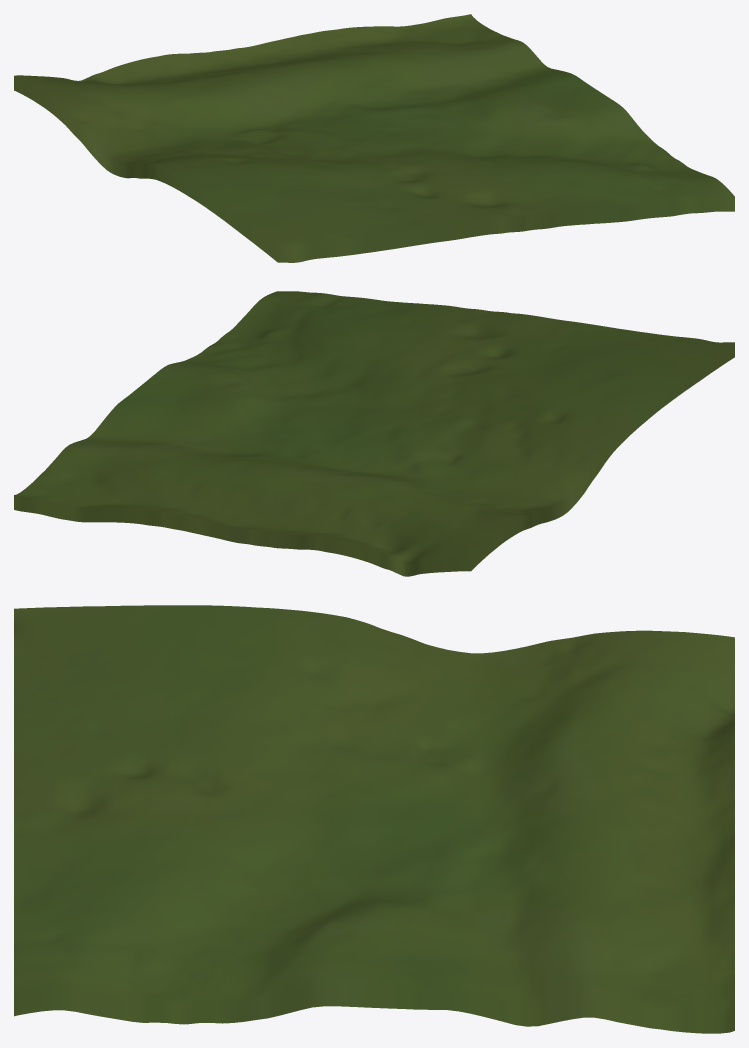
The model's file is terrain_8_-22.glb.
3 views of the same model, one above another, from view 1: azimuth 30°, elevation 25°; view 2: azimuth 150°, elevation 25°; view 3: azimuth 270°, elevation 25° (orthographic). The views are drawn at different scales.
Parts seen in each view (by area): view 1: terrain_8_-22; view 2: terrain_8_-22; view 3: terrain_8_-22.
Boxes of the visible parts, left/top/right/bottom form: terrain_8_-22: left=14, top=14, right=734, bottom=262; terrain_8_-22: left=14, top=291, right=734, bottom=576; terrain_8_-22: left=14, top=605, right=734, bottom=1033.
Size of the model in its own units: 256 by 48.52 by 256.
